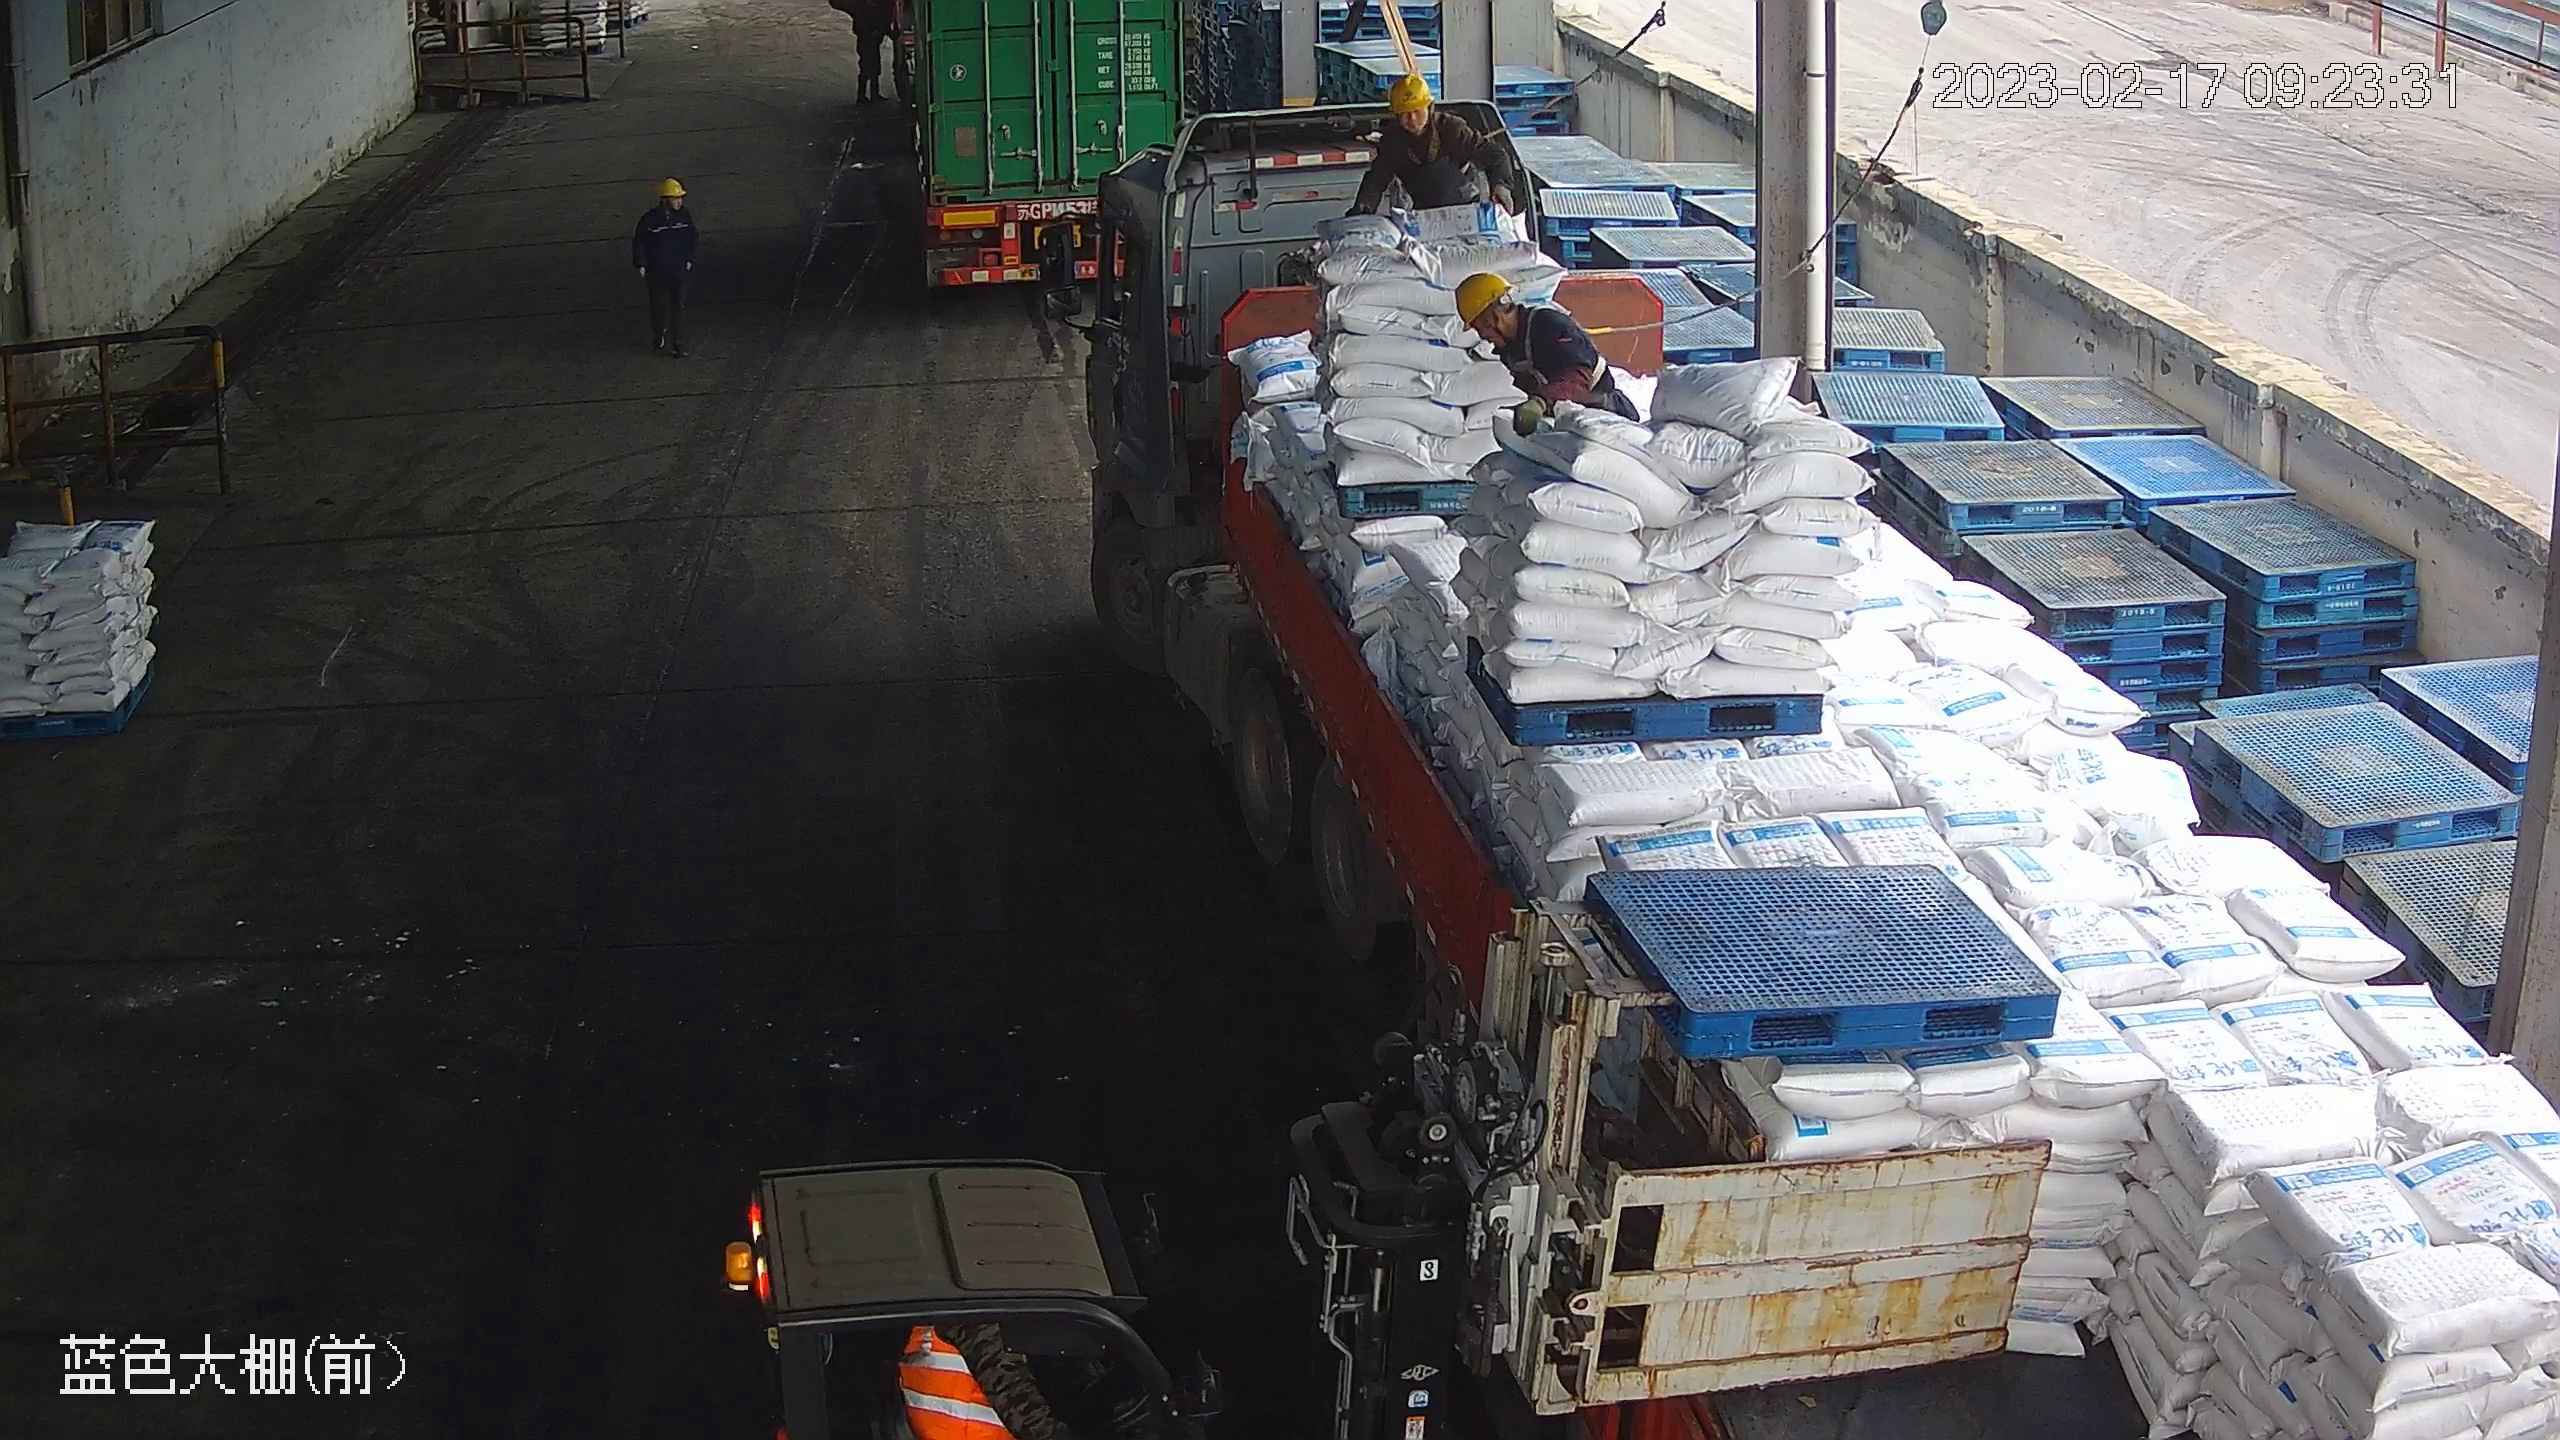belt: (1507, 304, 1595, 381), (1405, 118, 1451, 161)
head: (1456, 269, 1567, 357), (1376, 74, 1462, 143), (638, 178, 694, 231)
helmet: (1453, 269, 1568, 356), (1455, 269, 1509, 328), (1384, 72, 1428, 112), (656, 177, 685, 198)
people: (1456, 268, 1637, 449), (628, 176, 700, 357), (852, 1, 897, 101)
truck: (1021, 92, 2560, 1440), (902, 1, 1184, 290)
